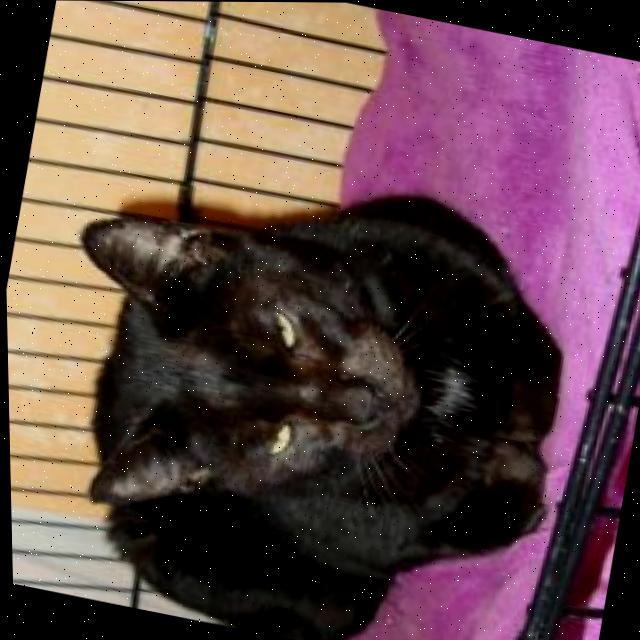Bombay: (6, 123, 599, 640)
